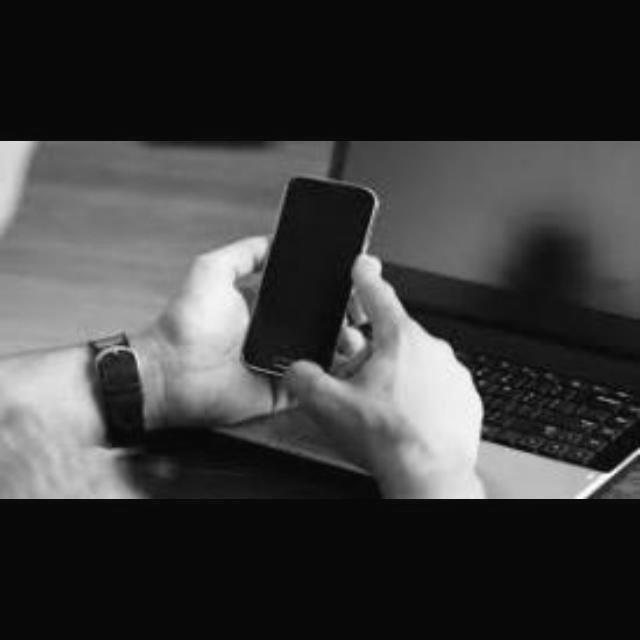fake: (214, 166, 404, 414)
